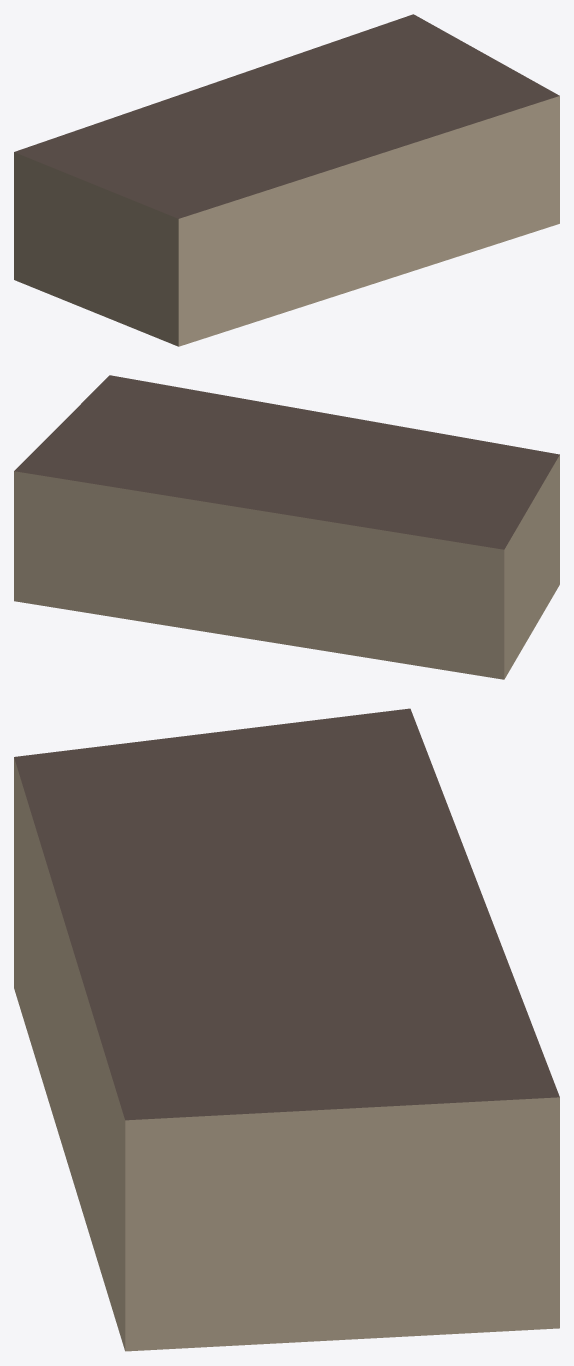
3 views of the same model, one above another, from view 1: azimuth 30°, elevation 25°; view 2: azimuth 150°, elevation 25°; view 3: azimuth 270°, elevation 25° (orthographic). The views are drawn at different scales.
Parts seen in each view (by area): view 1: HP-w1512800278; view 2: HP-w1512800278; view 3: HP-w1512800278.
Boxes of the visible parts, box(x1,y1,x2,y2) form: HP-w1512800278: box(14, 14, 559, 346); HP-w1512800278: box(14, 375, 559, 679); HP-w1512800278: box(14, 708, 559, 1351).
Bounding box in the file's own units: 34.4 × 9 × 19.27.
